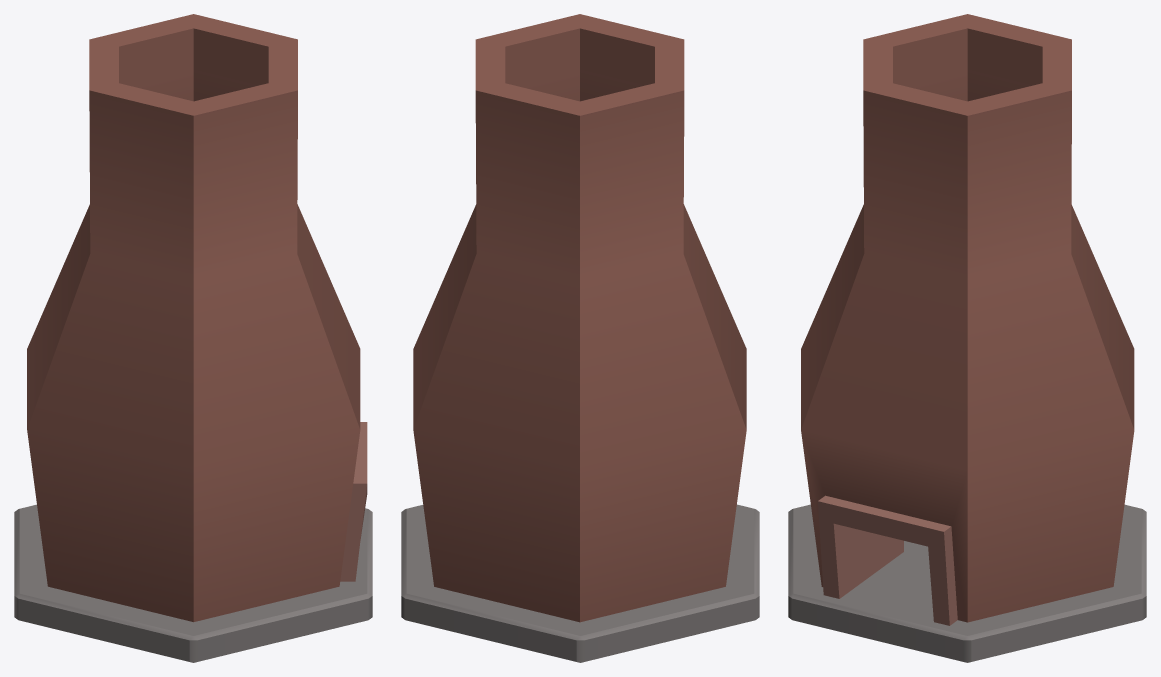
The model's file is Furnace.fbx.
3 renders of one model, left to right at view 1: azimuth 30°, elevation 25°; view 2: azimuth 150°, elevation 25°; view 3: azimuth 270°, elevation 25°, orthographic.
Visible parts, largest first — view 1: Furnace; view 2: Furnace; view 3: Furnace.
Boxes of the visible parts, <box> form: Furnace: <box>14,14,372,662</box>; Furnace: <box>401,14,759,662</box>; Furnace: <box>788,14,1146,662</box>.
Bounding box in the file's own units: 2.27 × 3.14 × 1.99.
